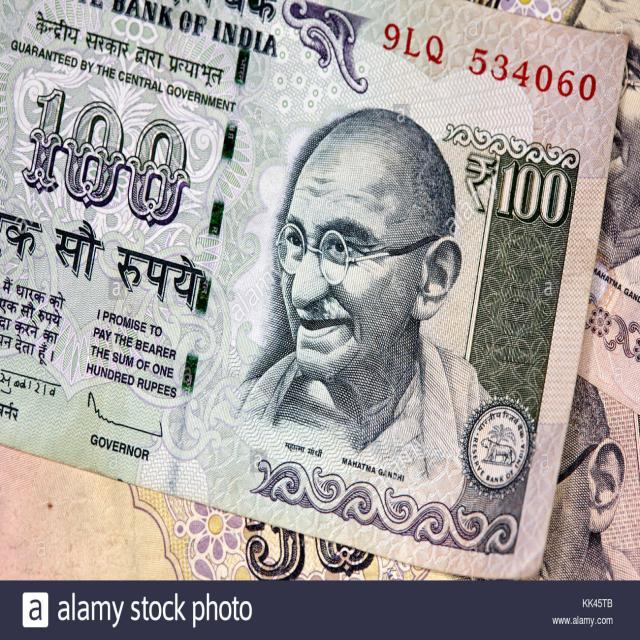100IndianRupees: (0, 0, 629, 579)
